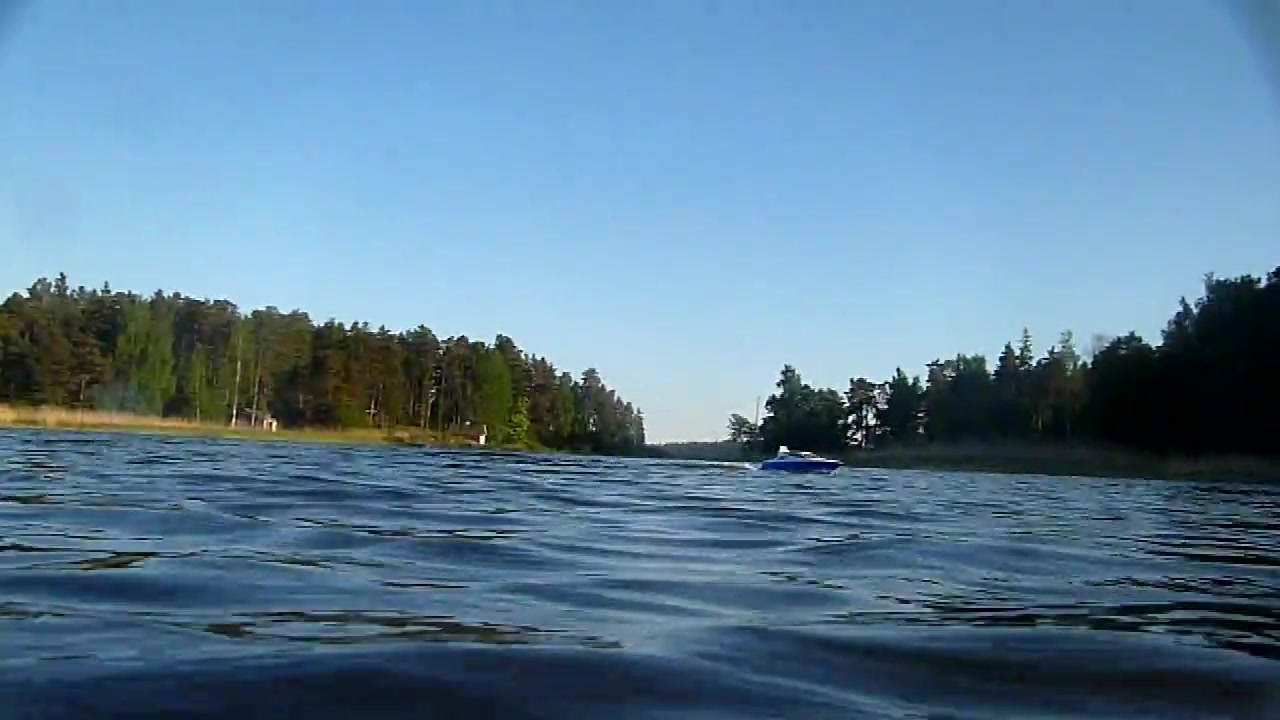boat: (755, 445, 847, 483)
